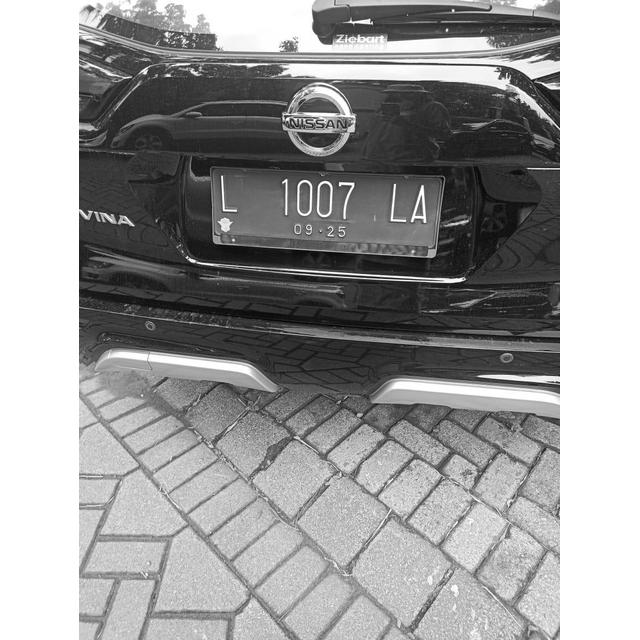license: (214, 169, 438, 246)
